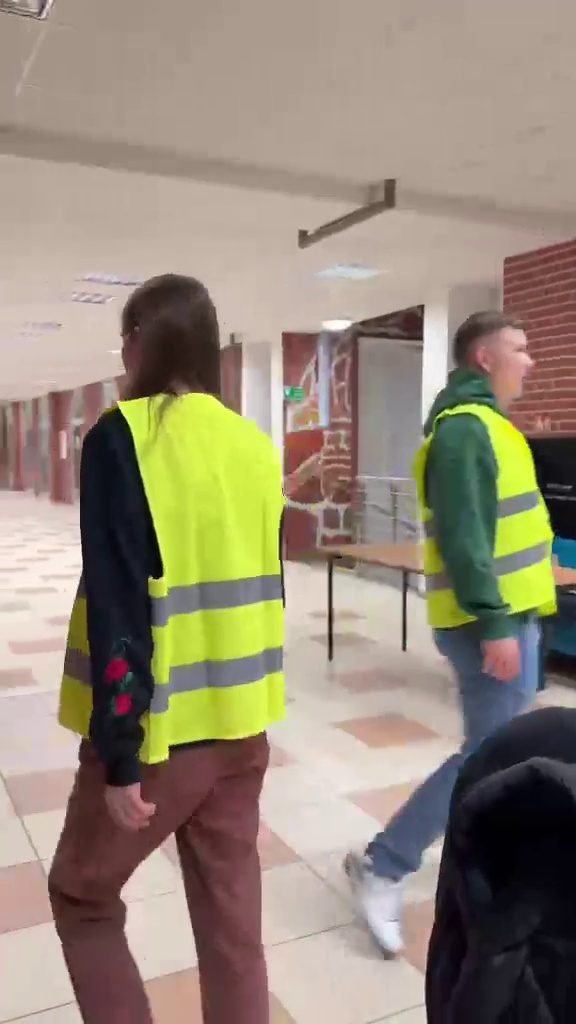vest: (60, 268, 297, 1007), (407, 290, 545, 935)
